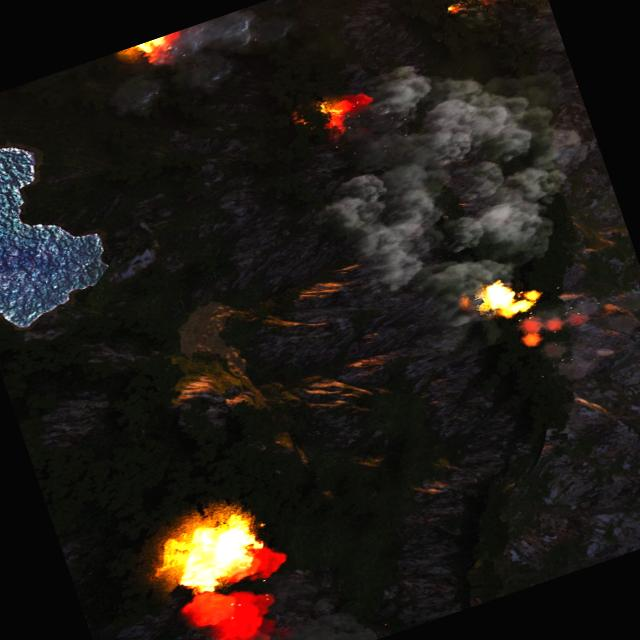fire: (151, 504, 275, 603), (475, 271, 540, 325), (313, 86, 375, 136), (118, 30, 186, 68), (439, 3, 463, 20), (468, 0, 495, 8)
smoke: (278, 20, 617, 334), (89, 0, 302, 125), (515, 280, 640, 377), (162, 574, 303, 640)
